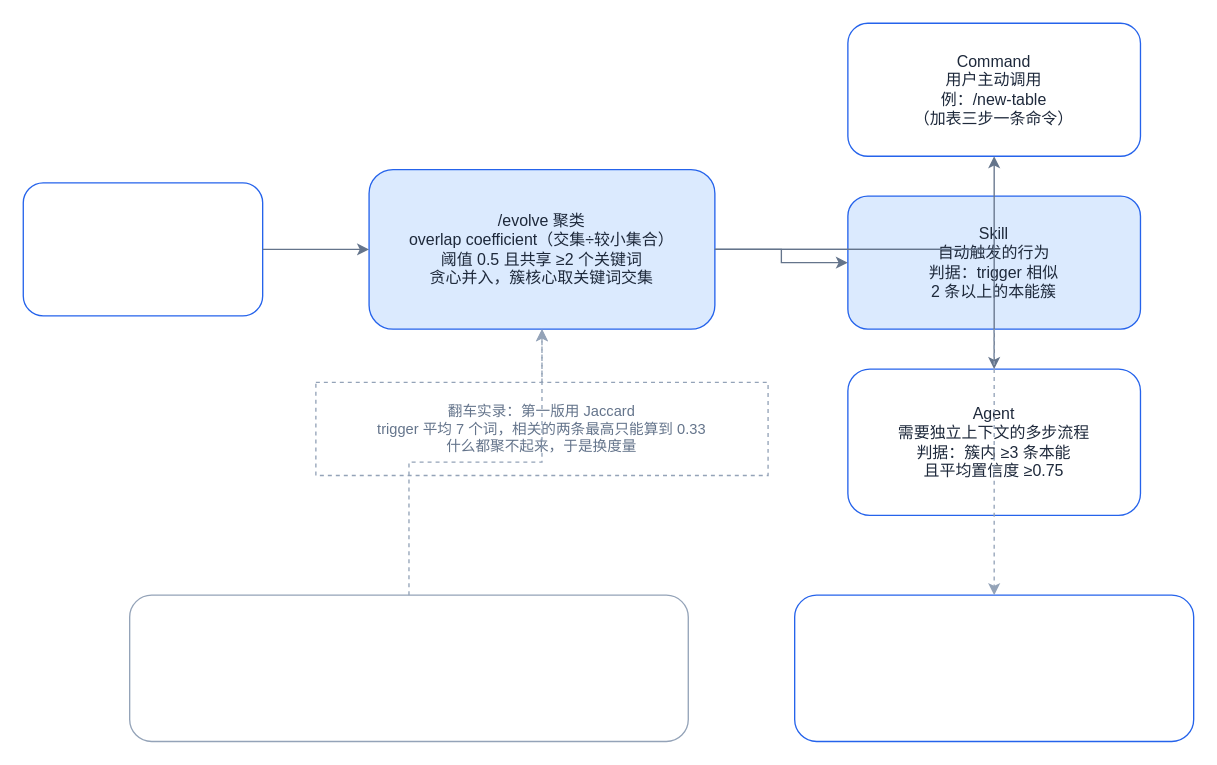
Some shapes in this 1217 by 765 pixel diagram are drawn without their labels. The box of each missing label's shape, as (x1, y1, x2, y2) in pixels:
promote：项目本能 → 全局本能 硬门槛：置信度 ≥0.8 且在 2 个以上项目被验证过 （局部经验不配污染全局）: (793, 594, 1194, 741)
为什么不用 embedding 聚类： 关键词重叠可解释——簇标签就是共享关键词本身； 本地优先，不依赖网络与向量服务； 代价是语义相关但用词不同的本能会漏聚: (128, 594, 688, 741)
本能库 几十条 instinct （trigger 各自独立）: (22, 182, 263, 316)
